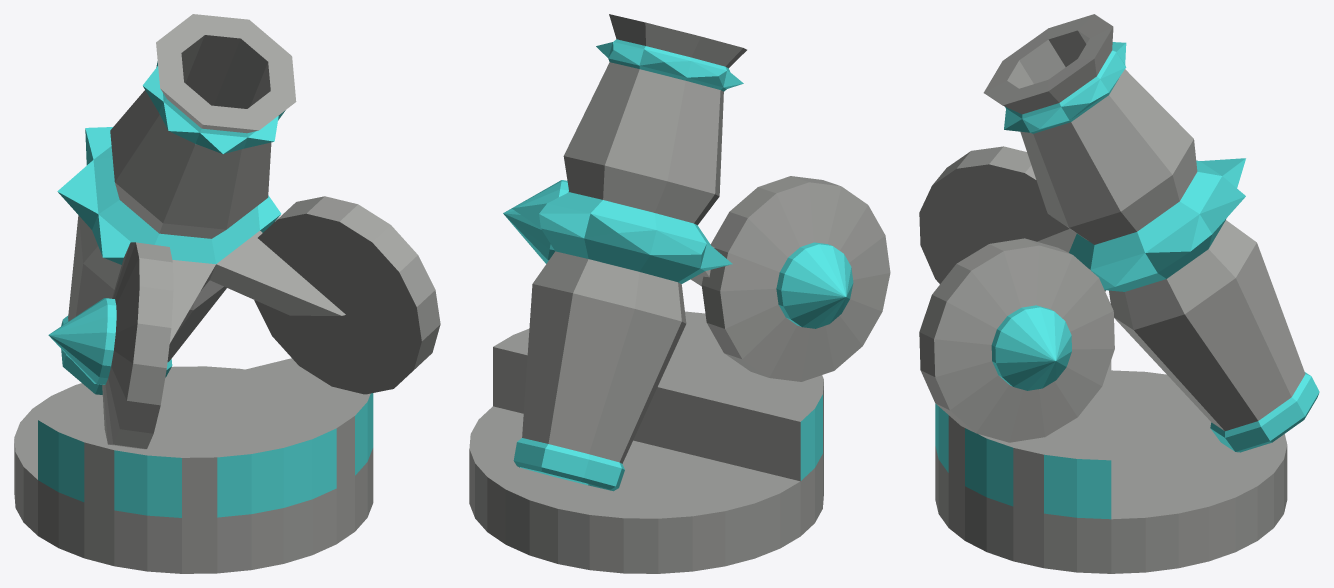
Rendered from Mortar_Tower_Upgraded_Ice.fbx.
3 views of the same model, side by side, from view 1: azimuth 30°, elevation 25°; view 2: azimuth 150°, elevation 25°; view 3: azimuth 270°, elevation 25° (orthographic). The views are drawn at different scales.
Visible parts, largest first — view 1: Circle; view 2: Circle; view 3: Circle.
Boxes of the visible parts, bbox=[...] form: Circle: bbox=[14, 14, 440, 573]; Circle: bbox=[469, 14, 890, 573]; Circle: bbox=[919, 14, 1319, 573].
Bounding box in the file's own units: 545 × 724 × 555.
1 material, 1 textured.
